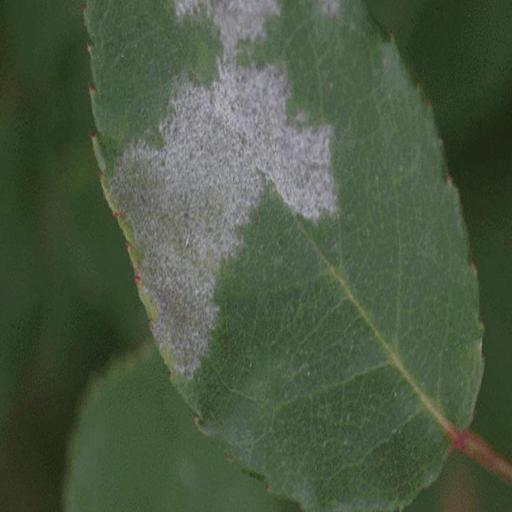powdery_mildew: (84, 0, 484, 512)
